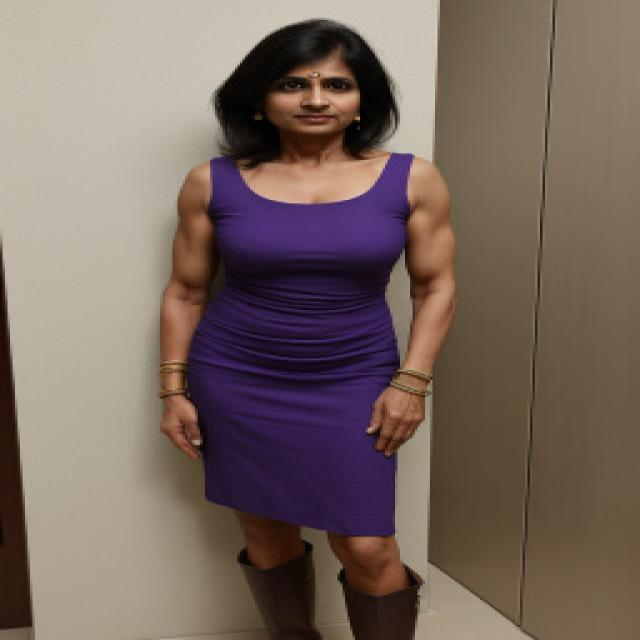Ai human 2: (146, 11, 476, 640)
